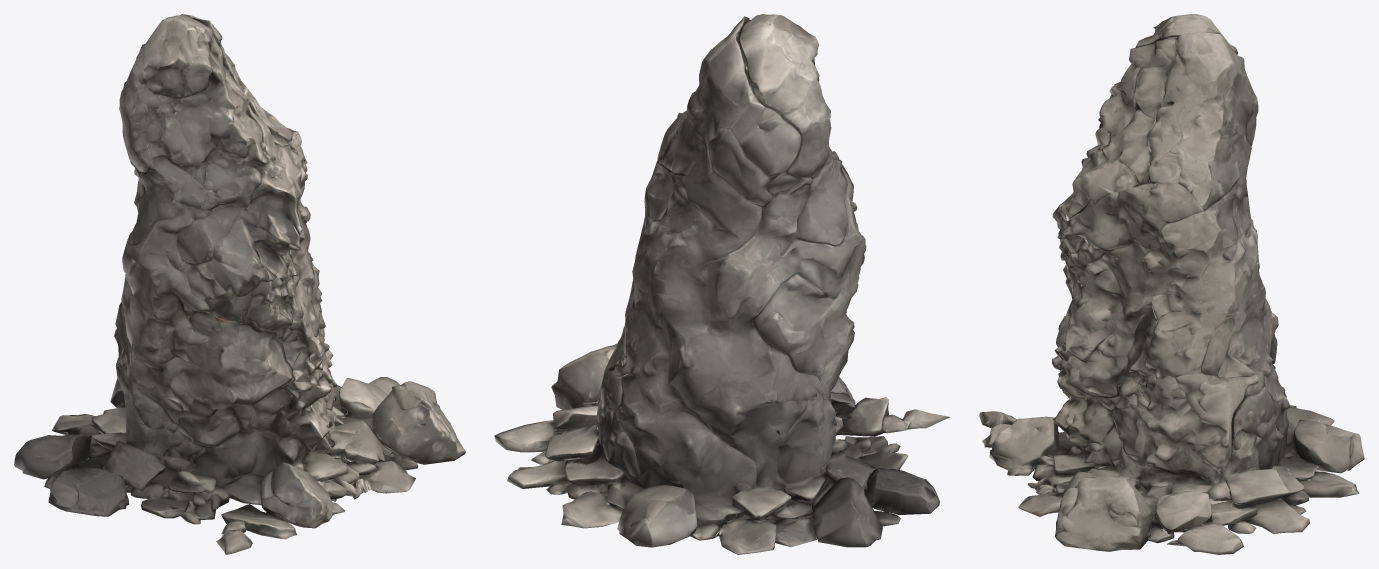
The model's file is pinnacle_a.glb.
3 views of the same model, side by side, from view 1: azimuth 30°, elevation 25°; view 2: azimuth 150°, elevation 25°; view 3: azimuth 270°, elevation 25° (orthographic). The views are drawn at different scales.
Parts seen in each view (by area): view 1: pinnacle_a; view 2: pinnacle_a; view 3: pinnacle_a.
Part boxes in pixels (<box>): pinnacle_a: <box>14,14,465,554</box>; pinnacle_a: <box>494,14,949,554</box>; pinnacle_a: <box>979,14,1364,554</box>.
Size of the model in its own units: 19.92 by 22.02 by 18.01.
1 material, 1 textured.
